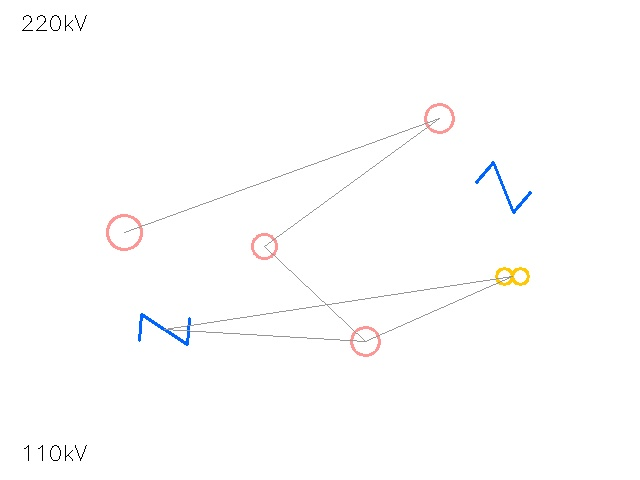circuit_breaker: (137, 302, 191, 356), (476, 160, 530, 214)
current_transformer: (239, 221, 289, 271)
disconnect_switch: (337, 313, 393, 369)
feeder_terminal: (90, 198, 158, 266)
fuse: (410, 89, 468, 147)
transformer_2w: (492, 256, 532, 296)
